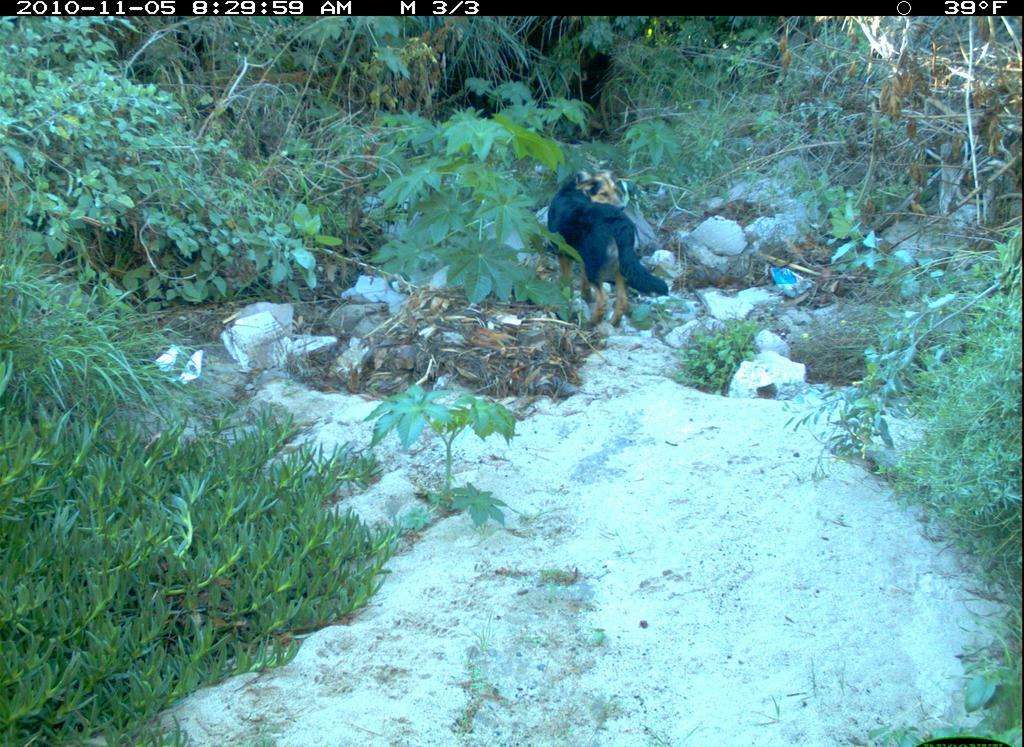dog: (539, 162, 673, 337)
